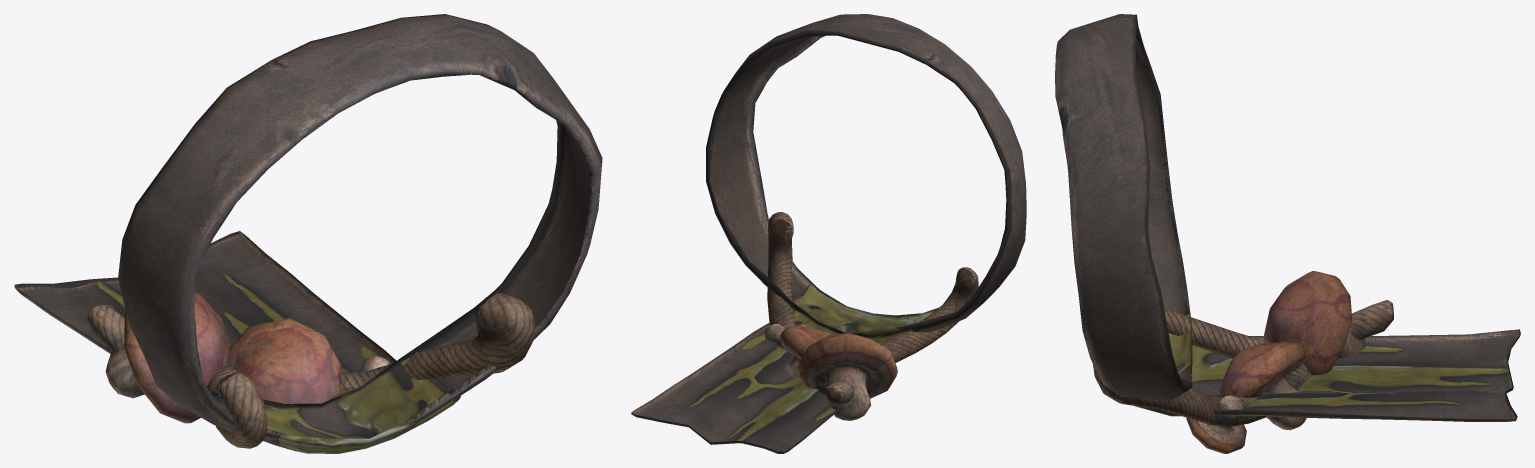
The model's file is sm_dwarf_mushroom_belt.gltf.
3 views of the same model, side by side, from view 1: azimuth 30°, elevation 25°; view 2: azimuth 150°, elevation 25°; view 3: azimuth 270°, elevation 25° (orthographic). The views are drawn at different scales.
Visible parts, largest first — view 1: sm_dwarf_mushroom_belt; view 2: sm_dwarf_mushroom_belt; view 3: sm_dwarf_mushroom_belt.
Boxes of the visible parts, box(x1,y1,x2,y2) form: sm_dwarf_mushroom_belt: box(14, 14, 602, 453); sm_dwarf_mushroom_belt: box(631, 14, 1026, 453); sm_dwarf_mushroom_belt: box(1055, 14, 1520, 453).
Size of the model in its own units: 58.26 by 56.68 by 62.7.
Materials: 1 (1 with a texture image).
